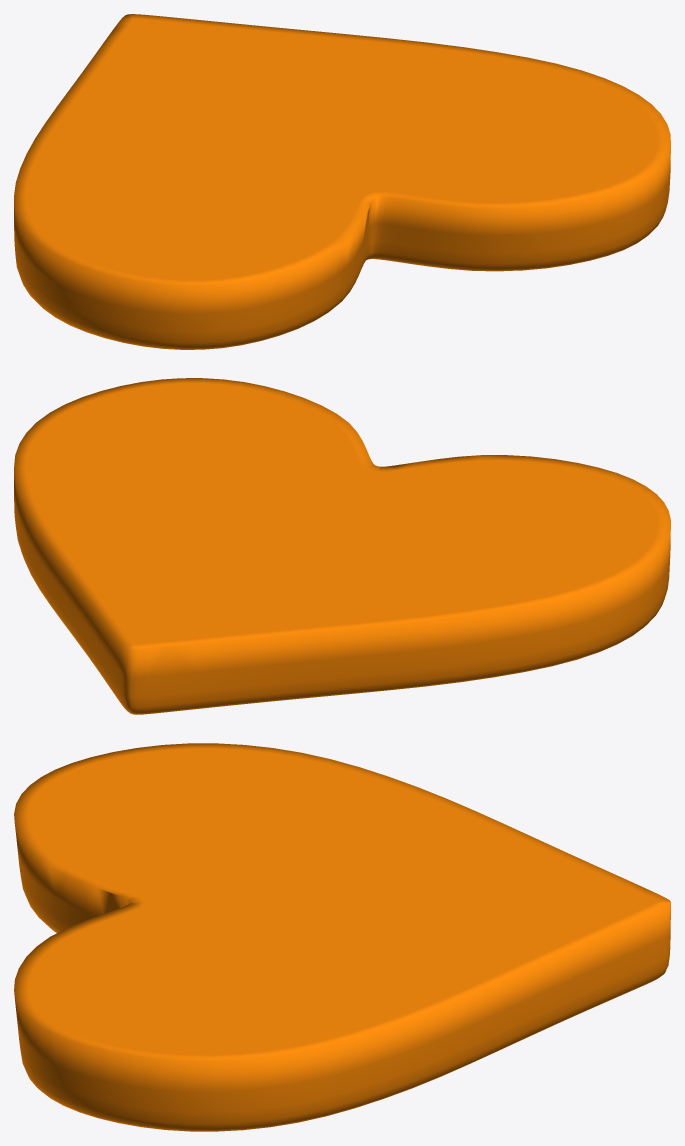
File: 김예주.gltf
The picture shows the model from 3 angles, top to bottom: view 1: azimuth 30°, elevation 25°; view 2: azimuth 150°, elevation 25°; view 3: azimuth 270°, elevation 25°; orthographic projection. The views are drawn at different scales.
Parts seen in each view (by area): view 1: 김예주; view 2: 김예주; view 3: 김예주.
Part boxes in pixels (x1,y1,x2,y2): 김예주: (14, 14, 670, 349); 김예주: (14, 378, 670, 714); 김예주: (14, 743, 670, 1131).
Size of the model in its own units: 1.23 by 0.1388 by 1.07.
